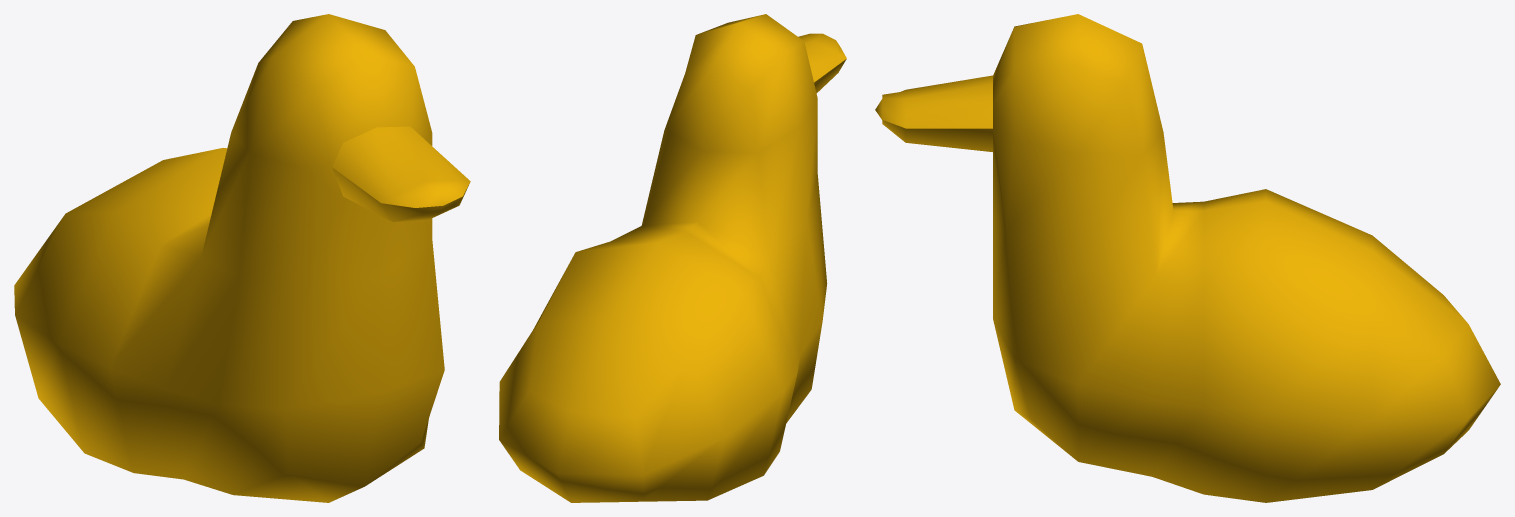
File: DuckRubber001.FBX
3 views of the same model, side by side, from view 1: azimuth 30°, elevation 25°; view 2: azimuth 150°, elevation 25°; view 3: azimuth 270°, elevation 25° (orthographic). The views are drawn at different scales.
Visible parts, largest first — view 1: RubberDuck; view 2: RubberDuck; view 3: RubberDuck.
Boxes of the visible parts, bbox=[...] form: RubberDuck: bbox=[14, 14, 470, 502]; RubberDuck: bbox=[499, 14, 846, 502]; RubberDuck: bbox=[875, 14, 1500, 502].
Size of the model in its own units: 1.55 by 2.34 by 2.86.
